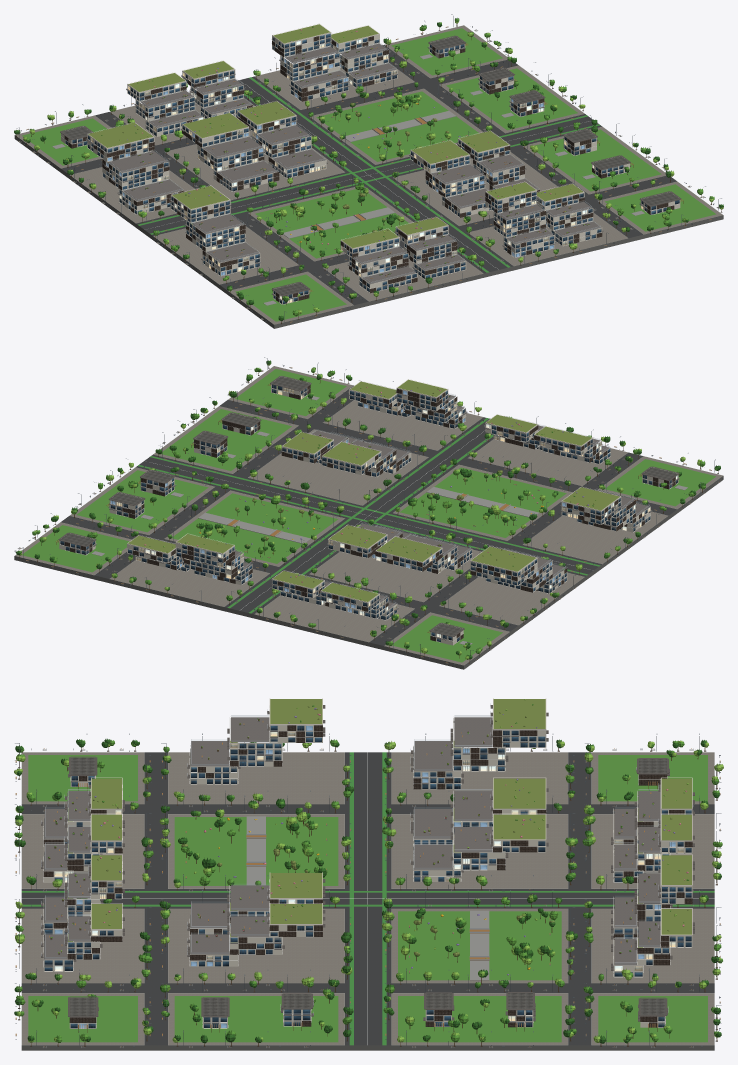
File: world-terraces.glb
The picture shows the model from 3 angles, top to bottom: view 1: azimuth 30°, elevation 25°; view 2: azimuth 150°, elevation 25°; view 3: azimuth 270°, elevation 25°; orthographic projection. The views are drawn at different scales.
Visible parts, largest first — view 1: Road, Sidewalk, Props, b22_Props, b11_Props, b31_Props, b32_Props, b12_Props, b00_Props, b33_Props, b21_Props, b30_Props (+47 smaller); view 2: Road, Sidewalk, Props, b11_Props, b22_Props, b32_Props, b31_Props, b21_Sidewalk, b12_Sidewalk, b03_Props, b12_Props, b00_Props (+38 smaller); view 3: Road, Sidewalk, b22_Props, Props, b11_Props, b31_Props, b32_Props, b21_Sidewalk, b01_Sidewalk, b12_Props, b33_Props, b30_Props (+48 smaller).
Part boxes in pixels (x1,y1,x2,y2): Road: (61,45,676,305); Sidewalk: (16,25,722,324); Props: (14,25,723,328); b22_Props: (308,77,492,164); b11_Props: (247,174,426,260); b31_Props: (520,115,668,193); b32_Props: (438,54,585,132); b12_Props: (164,101,346,199); b00_Props: (227,260,356,324); b33_Props: (383,14,512,77); b21_Props: (392,131,572,225); b30_Props: (594,170,723,233); Road: (61,385,676,645); Sidewalk: (15,366,722,665); Props: (14,366,723,669); b11_Props: (395,456,570,539); b22_Props: (167,481,344,564); b32_Props: (71,458,213,533); b31_Props: (155,397,297,472); b21_Sidewalk: (255,454,421,502); b12_Sidewalk: (316,552,479,599); b03_Props: (385,603,509,664); b12_Props: (311,517,487,600); b00_Props: (597,447,723,508); Road: (21,752,714,1045); Sidewalk: (22,752,714,1044); b22_Props: (382,890,577,985); Props: (21,752,714,1050); b11_Props: (159,795,351,891); b31_Props: (160,974,353,1047); b32_Props: (383,974,576,1047); b21_Sidewalk: (174,911,338,980); b01_Sidewalk: (174,755,338,801); b12_Props: (382,778,578,891); b33_Props: (583,974,721,1047); b30_Props: (14,974,153,1047).
Size of the model in its own units: 369 by 38.28 by 369.
Materials: 12 (11 with a texture image).
